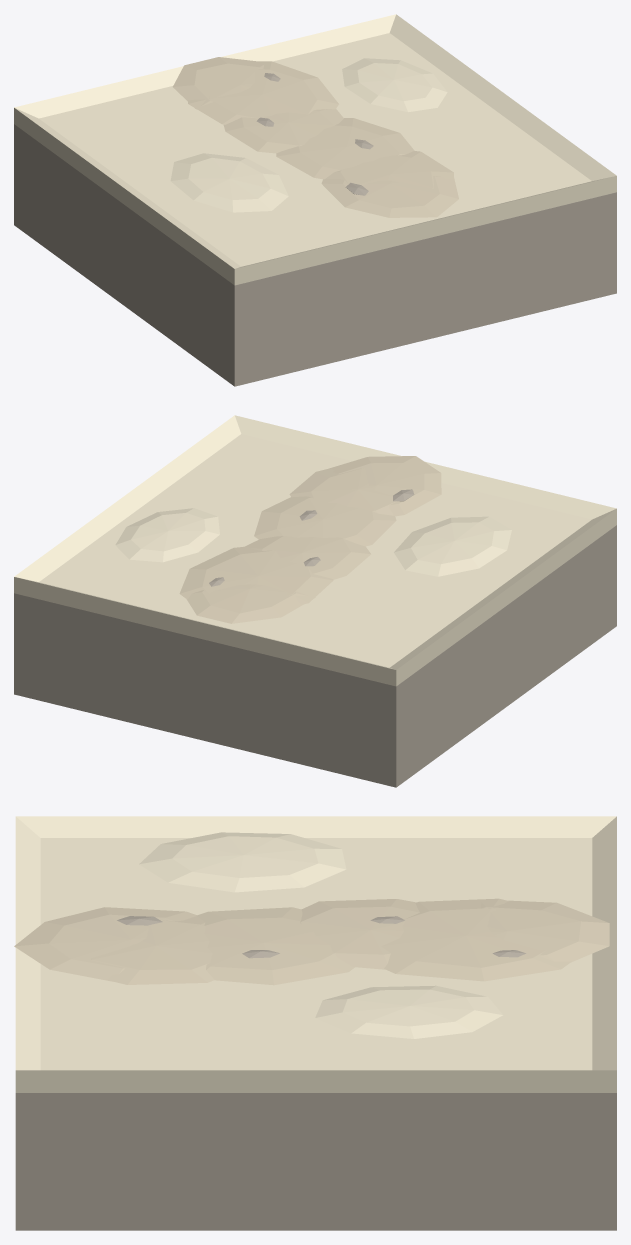
The model's file is tile_snow_path.glb.
The picture shows the model from 3 angles, top to bottom: view 1: azimuth 30°, elevation 25°; view 2: azimuth 150°, elevation 25°; view 3: azimuth 270°, elevation 25°; orthographic projection. The views are drawn at different scales.
Parts seen in each view (by area): view 1: snow_path_cap, snow_path_body, snow_path_bank_0, snow_path_lane_4, snow_path_lane_2, snow_path_bank_1, snow_path_lane_0, snow_path_lane_3, snow_path_lane_5, snow_path_lane_1; view 2: snow_path_cap, snow_path_body, snow_path_bank_0, snow_path_lane_4, snow_path_lane_2, snow_path_bank_1, snow_path_lane_0, snow_path_lane_5, snow_path_lane_3, snow_path_lane_1; view 3: snow_path_cap, snow_path_body, snow_path_bank_0, snow_path_lane_4, snow_path_lane_2, snow_path_bank_1, snow_path_lane_0, snow_path_lane_1, snow_path_lane_3, snow_path_lane_5.
Boxes of the visible parts, box(x1,y1,x2,y2) form: snow_path_cap: box(14, 14, 616, 285); snow_path_body: box(14, 124, 616, 386); snow_path_bank_0: box(170, 153, 288, 212); snow_path_lane_4: box(188, 61, 338, 124); snow_path_lane_2: box(276, 118, 414, 179); snow_path_bank_1: box(342, 58, 447, 112); snow_path_lane_0: box(321, 176, 458, 217); snow_path_lane_3: box(223, 109, 343, 153); snow_path_lane_5: box(173, 57, 263, 109); snow_path_lane_1: box(325, 151, 453, 188); snow_path_cap: box(14, 415, 616, 686); snow_path_body: box(14, 525, 616, 787); snow_path_bank_0: box(394, 516, 511, 576); snow_path_lane_4: box(179, 546, 333, 604); snow_path_lane_2: box(254, 496, 396, 546); snow_path_bank_1: box(115, 508, 219, 562); snow_path_lane_0: box(330, 456, 441, 516); snow_path_lane_5: box(186, 584, 315, 623); snow_path_lane_3: box(245, 536, 370, 579); snow_path_lane_1: box(289, 468, 396, 515); snow_path_cap: box(15, 816, 616, 1092); snow_path_body: box(15, 1093, 616, 1230); snow_path_bank_0: box(139, 832, 346, 892); snow_path_lane_4: box(381, 898, 571, 981); snow_path_lane_2: box(196, 907, 354, 985); snow_path_bank_1: box(315, 985, 502, 1038); snow_path_lane_0: box(14, 907, 196, 981); snow_path_lane_1: box(91, 916, 214, 984); snow_path_lane_3: box(300, 899, 419, 969); snow_path_lane_5: box(481, 900, 609, 962).
Bounding box in the file's own units: 1.7 × 0.5416 × 1.7.
